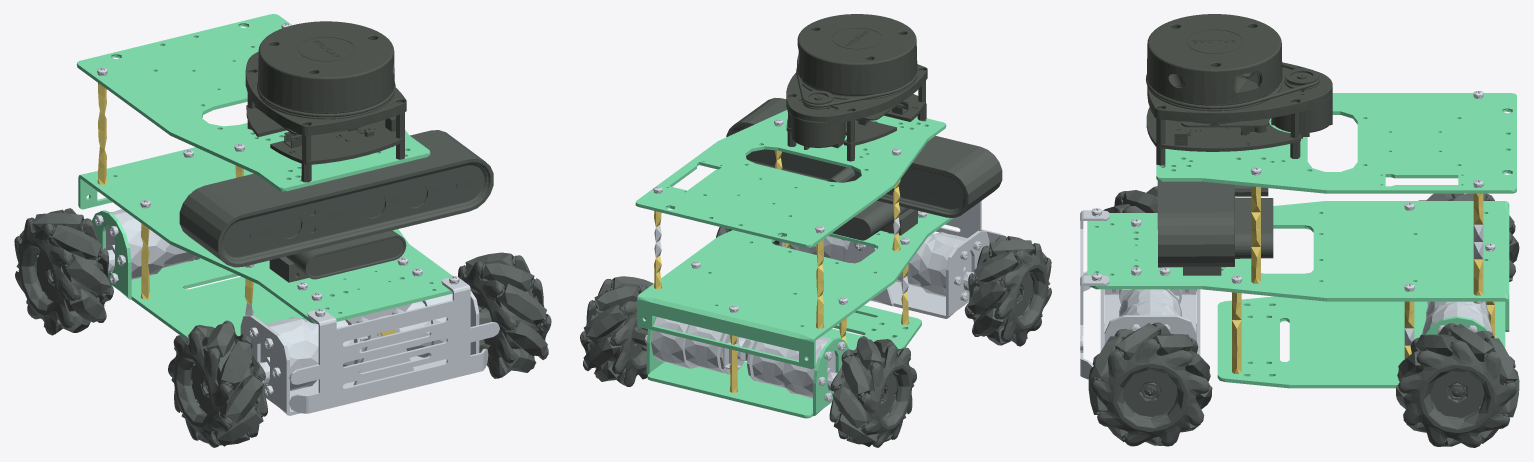
File: rosmaster_unified.glb
3 views of the same model, side by side, from view 1: azimuth 30°, elevation 25°; view 2: azimuth 150°, elevation 25°; view 3: azimuth 270°, elevation 25° (orthographic). The views are drawn at different scales.
Visible parts, largest first — view 1: object 125, rgbd_camera, object 2, lidar_sensor, wheel_27, wheel_117, wheel_87, object 1; view 2: object 125, lidar_sensor, object 2, rgbd_camera, wheel_117, wheel_27, wheel_57, object 1; view 3: object 125, lidar_sensor, wheel_57, wheel_87, rgbd_camera, object 2, object 1, wheel_117, wheel_27.
Boxes of the visible parts, bbox=[...] form: object 125: bbox=[76, 14, 452, 337]; rgbd_camera: bbox=[179, 130, 493, 282]; object 2: bbox=[95, 23, 499, 415]; lidar_sensor: bbox=[245, 21, 406, 182]; wheel_27: bbox=[14, 208, 113, 335]; wheel_117: bbox=[168, 320, 267, 447]; wheel_87: bbox=[458, 252, 551, 378]; object 1: bbox=[97, 83, 395, 336]; object 125: bbox=[635, 110, 953, 418]; lidar_sensor: bbox=[786, 14, 927, 161]; object 2: bbox=[645, 119, 1003, 401]; rgbd_camera: bbox=[726, 98, 1002, 240]; wheel_117: bbox=[964, 235, 1051, 346]; wheel_27: bbox=[829, 336, 916, 447]; wheel_57: bbox=[580, 276, 653, 386]; object 1: bbox=[654, 150, 909, 392]; object 125: bbox=[1087, 93, 1516, 388]; lidar_sensor: bbox=[1146, 14, 1332, 165]; wheel_57: bbox=[1396, 323, 1519, 447]; wheel_87: bbox=[1088, 322, 1212, 446]; rgbd_camera: bbox=[1157, 167, 1273, 275]; object 2: bbox=[1080, 91, 1495, 379]; object 1: bbox=[1232, 186, 1494, 373]; wheel_117: bbox=[1103, 186, 1196, 290]; wheel_27: bbox=[1418, 193, 1519, 281].
Bounding box in the file's own units: 199 × 191 × 229.
